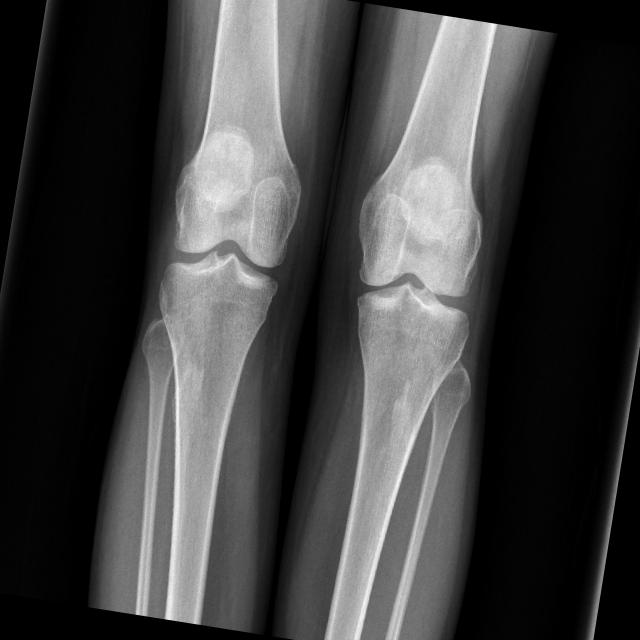Knee: (152, 188, 304, 334), (339, 215, 488, 360)
